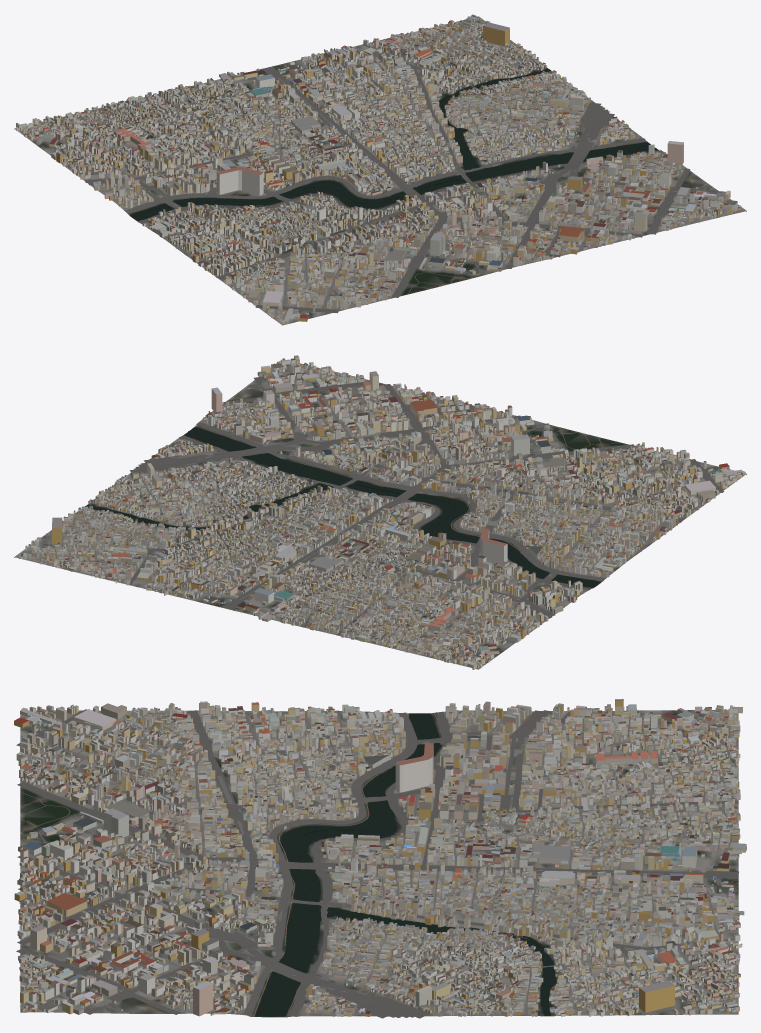
The picture shows the model from 3 angles, top to bottom: view 1: azimuth 30°, elevation 25°; view 2: azimuth 150°, elevation 25°; view 3: azimuth 270°, elevation 25°; orthographic projection. The views are drawn at different scales.
Parts seen in each view (by area): view 1: buildings, ground, roads, water; view 2: buildings, ground, roads, water; view 3: buildings, ground, roads, water.
Part boxes in pixels (box(x1,y1,x2,y2)): buildings: box(16, 14, 744, 324); ground: box(14, 16, 746, 325); roads: box(14, 20, 738, 321); water: box(130, 68, 658, 221); buildings: box(19, 355, 745, 669); ground: box(14, 359, 746, 668); roads: box(22, 365, 737, 669); water: box(85, 427, 601, 587); buildings: box(14, 699, 746, 1016); ground: box(20, 710, 738, 1017); roads: box(16, 709, 738, 1018); water: box(255, 713, 556, 1017).
Size of the model in its own units: 1421 by 68.06 by 1429.
